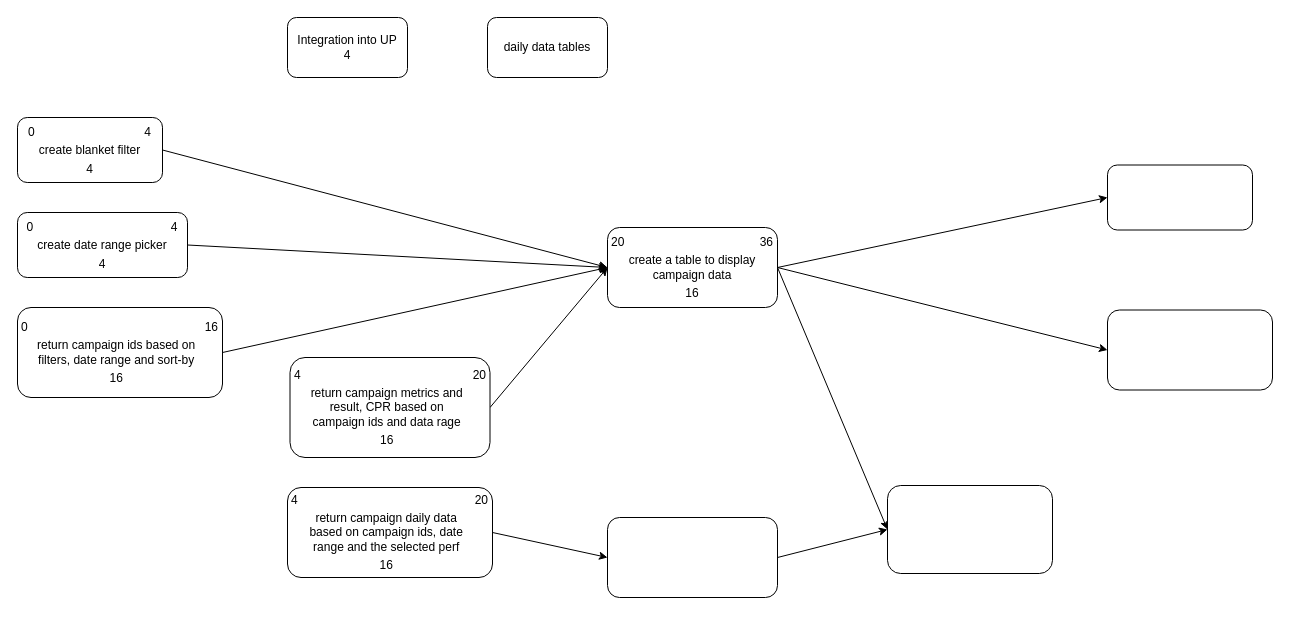
This 1290x618 diagram has some shape labels left out. Each missing label, with the centre of its shape:
"20 36 create a graph to display daily data and select a perf 16" goes at pixel 692 557.
"36 40 implement life time toggle 4" goes at pixel 1179 197.
"36 40 integrate the table the graph with internal state 4" goes at pixel 969 529.
"36 44 require some filters: company, brand 8" goes at pixel 1189 349.
